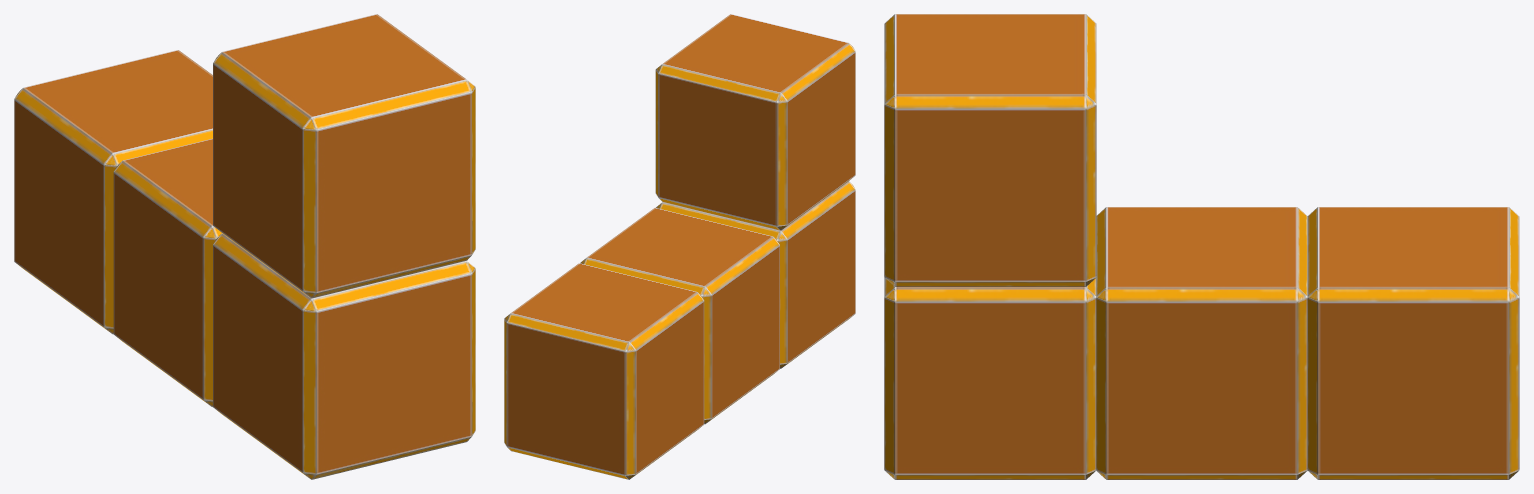
The model's file is Orange Block.fbx.
3 views of the same model, side by side, from view 1: azimuth 30°, elevation 25°; view 2: azimuth 150°, elevation 25°; view 3: azimuth 270°, elevation 25° (orthographic). The views are drawn at different scales.
Visible parts, largest first — view 1: pCube38; view 2: pCube38; view 3: pCube38.
Boxes of the visible parts, x1,y1,x2,y2 form: pCube38: (14,14,475,479); pCube38: (504,14,855,479); pCube38: (884,14,1519,479).
Bounding box in the file's own units: 1 × 2 × 2.99.
